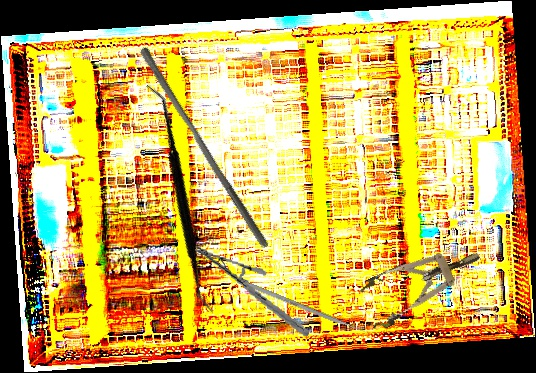Needle Holder: (184, 245, 320, 337)
Pusher: (131, 45, 278, 251), (242, 280, 372, 337)
Spatula Surgical: (65, 83, 295, 314)
Speculum: (353, 232, 491, 334)
